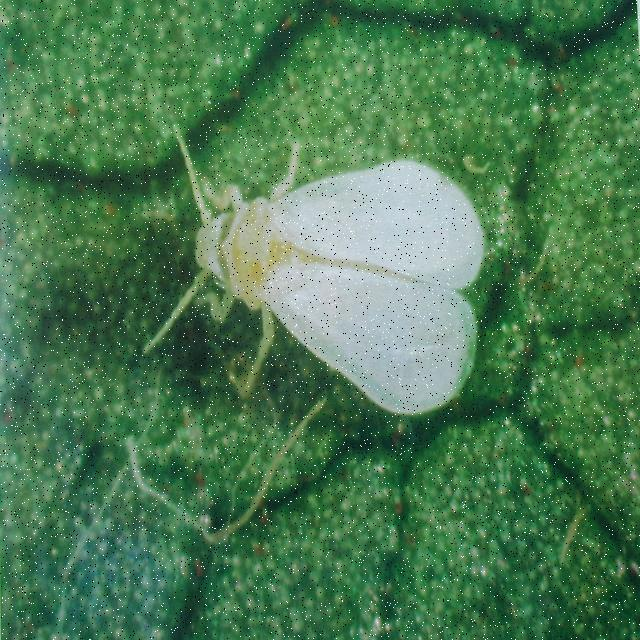Whiteflies: (139, 112, 578, 457)
